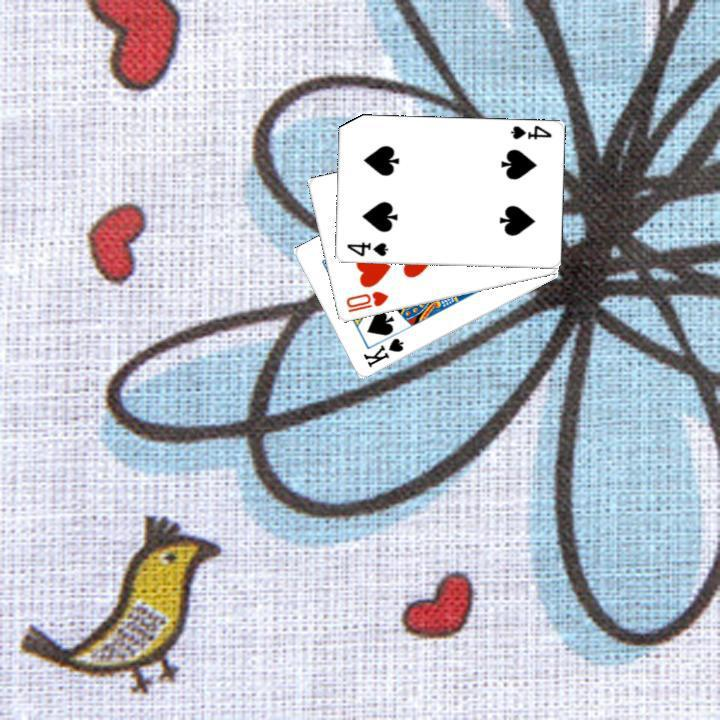10: (341, 287, 390, 315)
4: (342, 238, 390, 259), (506, 121, 553, 142)
K: (359, 334, 406, 370)
